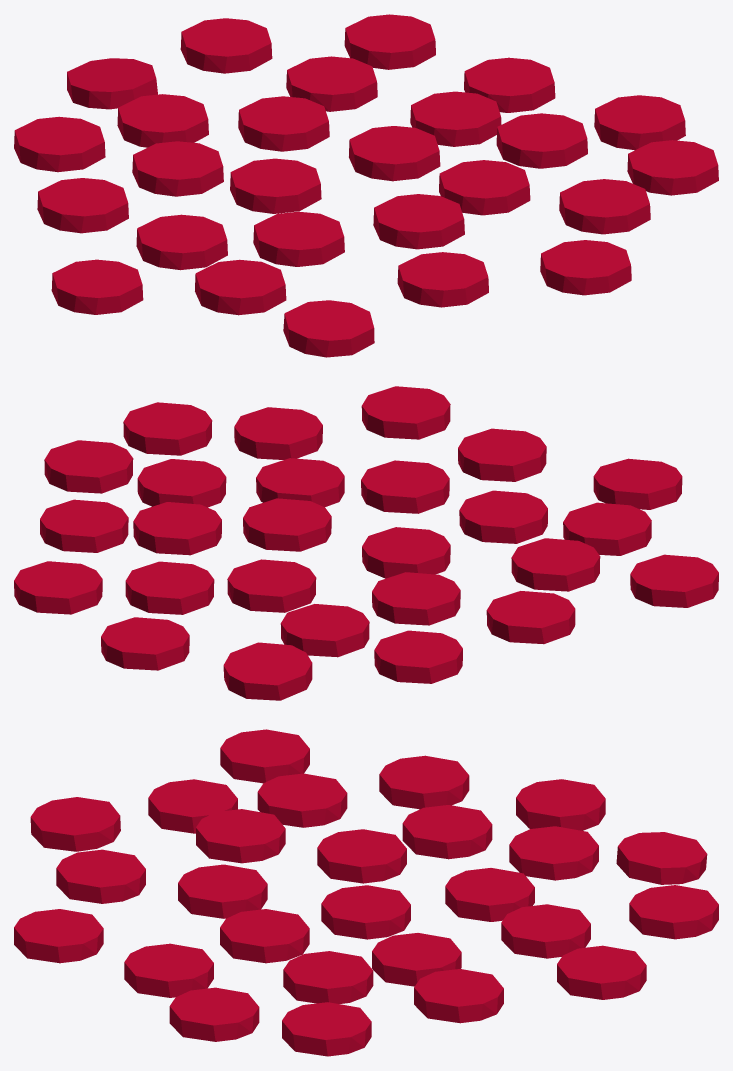
Rendered from pepperoni.glb.
3 renders of one model, top to bottom at view 1: azimuth 30°, elevation 25°; view 2: azimuth 150°, elevation 25°; view 3: azimuth 270°, elevation 25°, orthographic. The views are drawn at different scales.
Visible parts, largest first — view 1: trozos_pepperoni; view 2: trozos_pepperoni; view 3: trozos_pepperoni.
Boxes of the visible parts, x1=… form: trozos_pepperoni: x1=14, y1=14, x2=718, y2=357; trozos_pepperoni: x1=14, y1=386, x2=718, y2=700; trozos_pepperoni: x1=14, y1=729, x2=718, y2=1056.
Size of the model in its own units: 1.66 by 0.0796 by 1.59.
